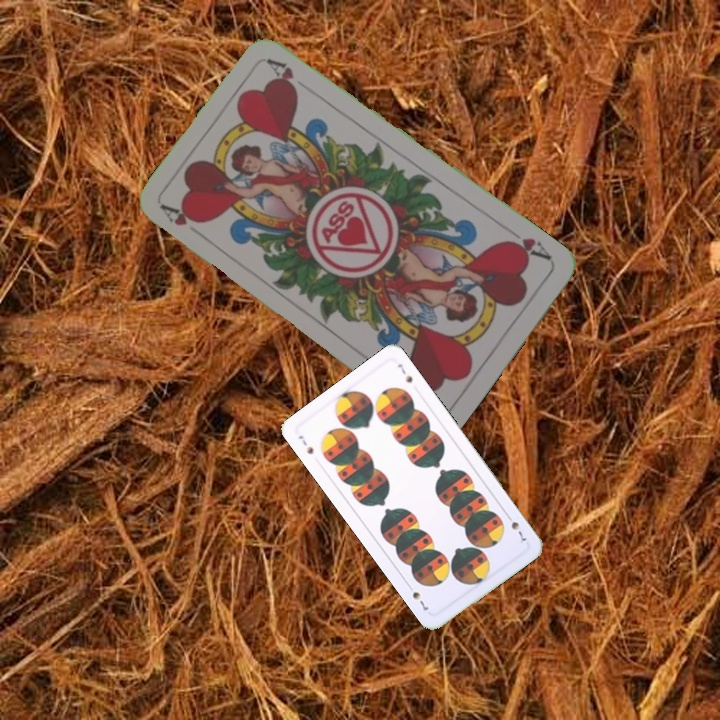HA: (501, 233, 555, 263), (157, 200, 207, 229)
S7: (502, 510, 528, 544), (294, 431, 316, 457)
